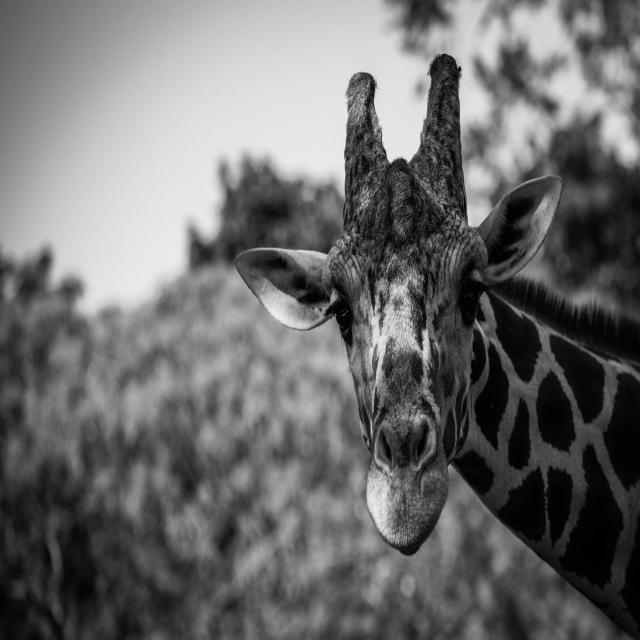Giraffe: (231, 49, 640, 640)
